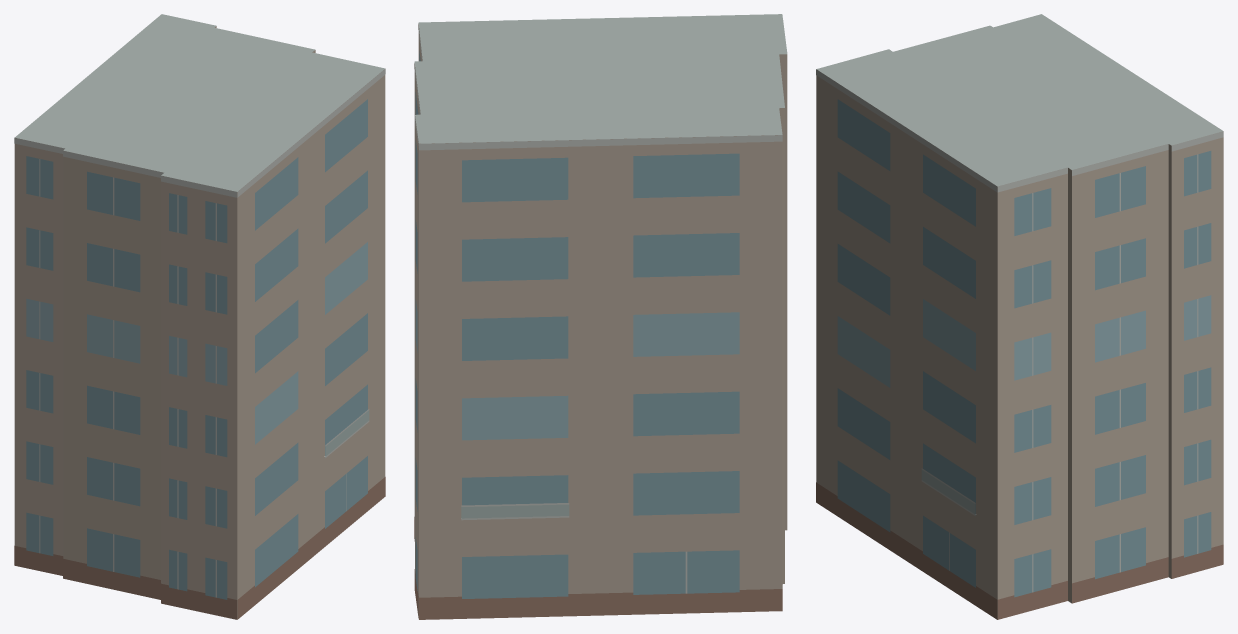
File: survey-upis-32656677.glb
The picture shows the model from 3 angles, left to right: view 1: azimuth 30°, elevation 25°; view 2: azimuth 150°, elevation 25°; view 3: azimuth 270°, elevation 25°; orthographic projection. The views are drawn at different scales.
Visible parts, largest first — view 1: survey-upis-32656677.tmp; view 2: survey-upis-32656677.tmp; view 3: survey-upis-32656677.tmp.
Boxes of the visible parts, left/top/right/bottom form: survey-upis-32656677.tmp: left=14, top=14, right=385, bottom=619; survey-upis-32656677.tmp: left=414, top=14, right=787, bottom=619; survey-upis-32656677.tmp: left=816, top=14, right=1223, bottom=619.
Size of the model in its own units: 14.86 by 17.4 by 14.83.
